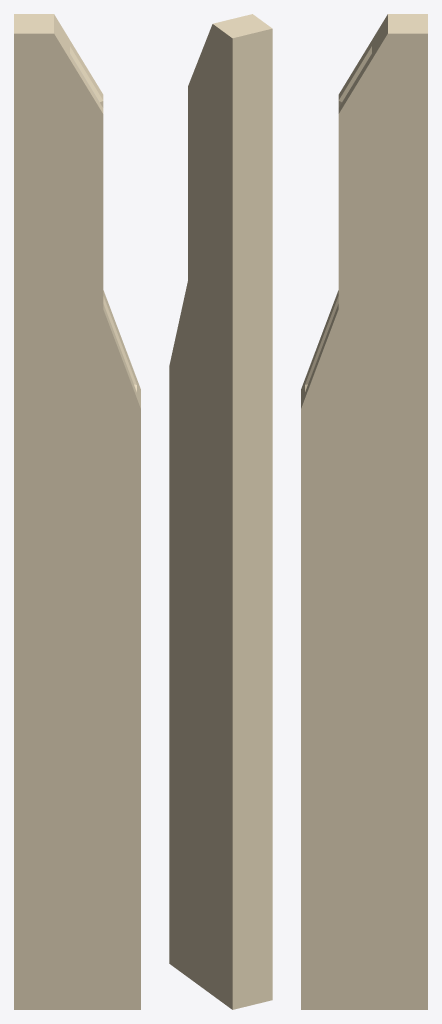
3 views of the same model, side by side, from view 1: azimuth 90°, elevation 25°; view 2: azimuth 210°, elevation 25°; view 3: azimuth 270°, elevation 25° (orthographic).
Visible parts, largest first — view 1: Object02; view 2: Object02; view 3: Object02.
Part boxes in pixels (x1,y1,x2,y2): Object02: [14, 14, 140, 1009]; Object02: [169, 14, 272, 1009]; Object02: [301, 14, 427, 1009].
Bounding box in the file's own units: 18.77 × 435 × 51.24.
